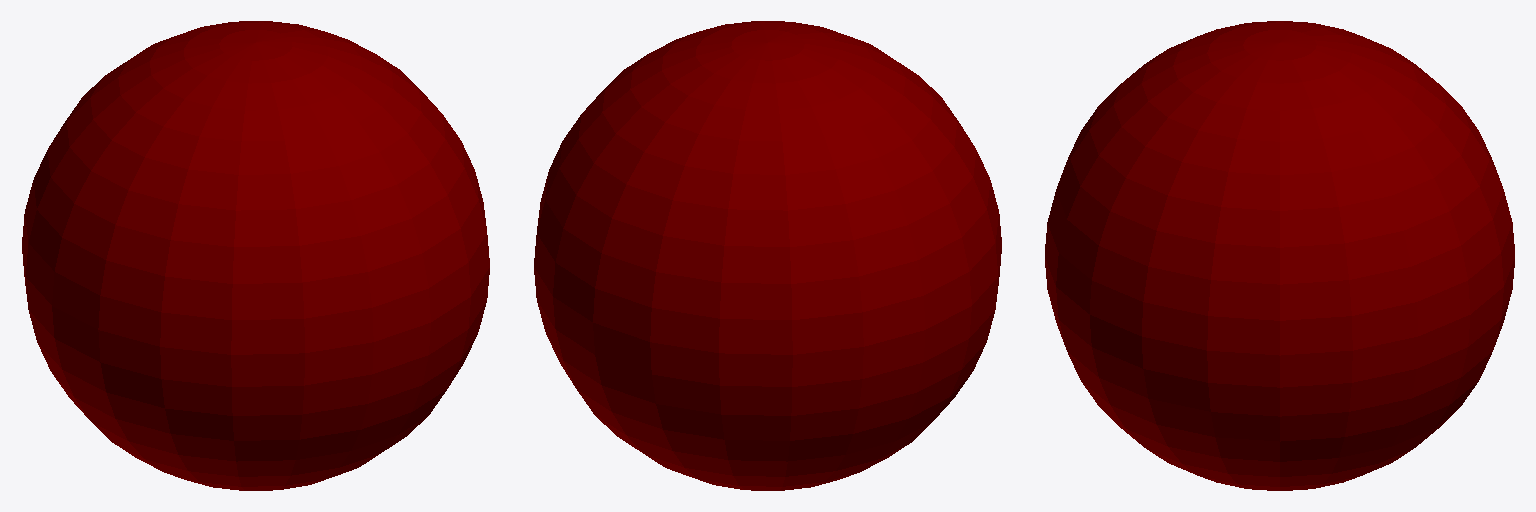
Rendered from BallOBJ.obj.
3 renders of one model, left to right at view 1: azimuth 30°, elevation 25°; view 2: azimuth 150°, elevation 25°; view 3: azimuth 270°, elevation 25°, orthographic.
Visible parts, largest first — view 1: pSphere1; view 2: pSphere1; view 3: pSphere1.
Part boxes in pixels (left/top/right/bottom): pSphere1: left=22, top=21, right=489, bottom=490; pSphere1: left=534, top=21, right=1001, bottom=490; pSphere1: left=1045, top=21, right=1514, bottom=490.
Bounding box in the file's own units: 2 × 2 × 2.